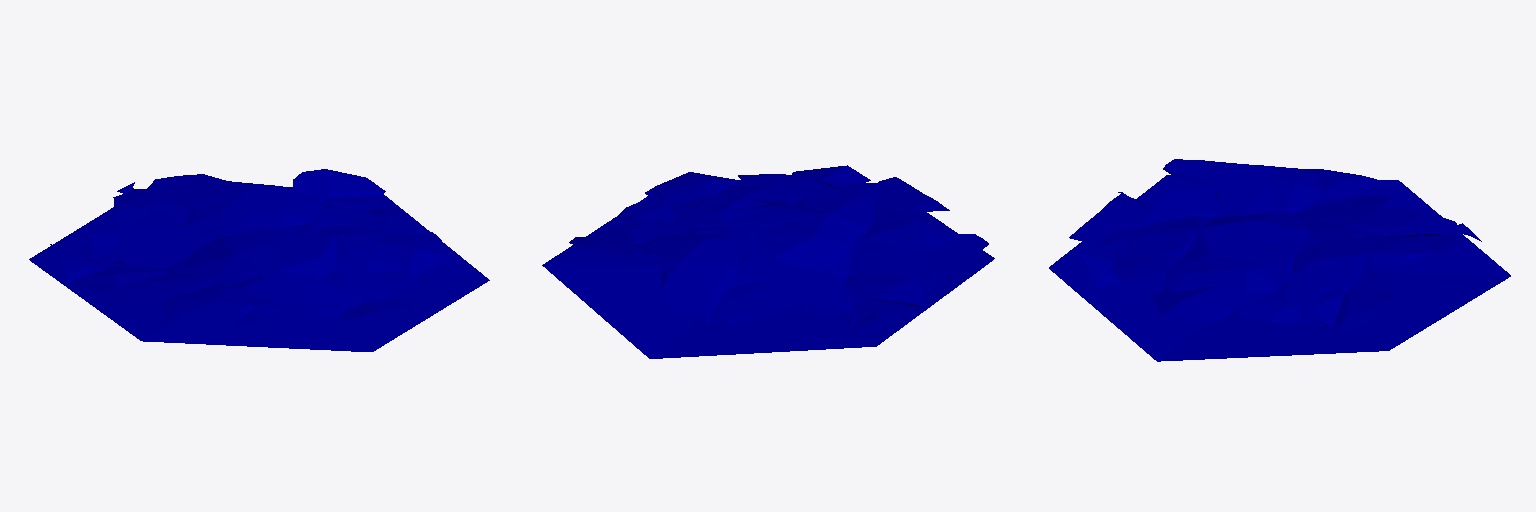
The model's file is water2.obj.
The picture shows the model from 3 angles: view 1: azimuth 30°, elevation 25°; view 2: azimuth 150°, elevation 25°; view 3: azimuth 270°, elevation 25°; orthographic projection.
Visible parts, largest first — view 1: Circle.002; view 2: Circle.002; view 3: Circle.002.
Boxes of the visible parts, box(x1,y1,x2,y2) form: Circle.002: box(29, 169, 489, 351); Circle.002: box(542, 165, 994, 358); Circle.002: box(1049, 159, 1510, 361).
Size of the model in its own units: 1.68 by 0.1993 by 1.95.